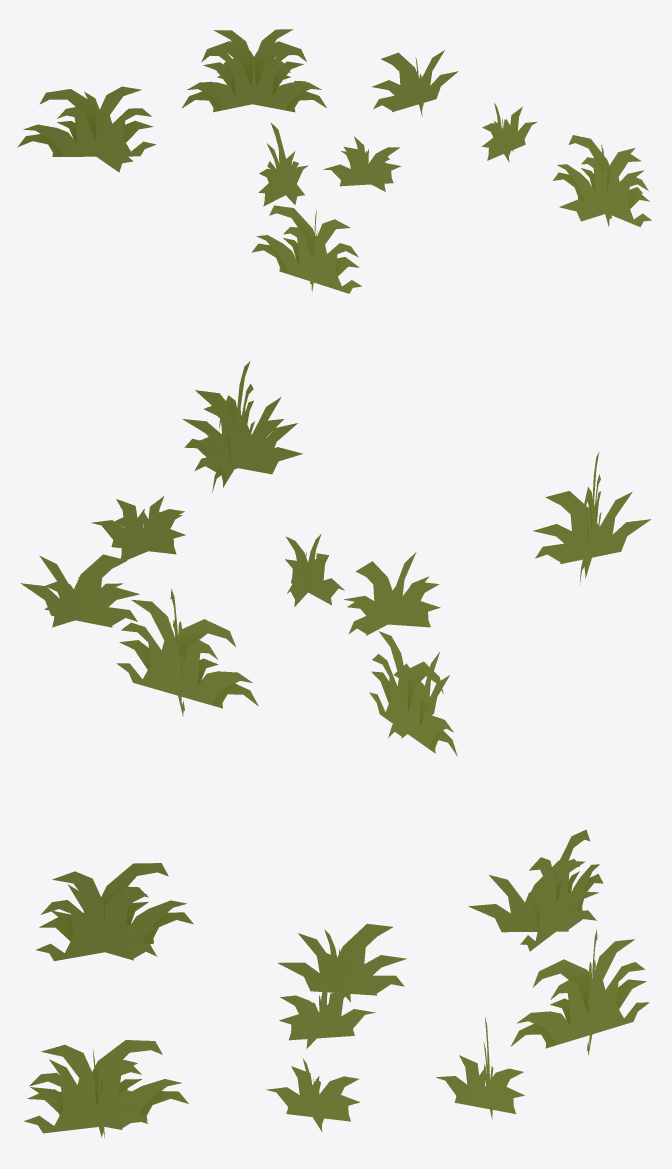
The model's file is SM_Env_Grass_03.fbx.
3 views of the same model, one above another, from view 1: azimuth 30°, elevation 25°; view 2: azimuth 150°, elevation 25°; view 3: azimuth 270°, elevation 25° (orthographic). The views are drawn at different scales.
Parts seen in each view (by area): view 1: SM_Env_Grass_03_LOD0; view 2: SM_Env_Grass_03_LOD0; view 3: SM_Env_Grass_03_LOD0.
Boxes of the visible parts, x1=… form: SM_Env_Grass_03_LOD0: x1=17, y1=29, x2=651, y2=293; SM_Env_Grass_03_LOD0: x1=21, y1=361, x2=650, y2=756; SM_Env_Grass_03_LOD0: x1=24, y1=829, x2=649, y2=1138.
Size of what is drawn, in the model's own units: 191 by 32.5 by 199.
